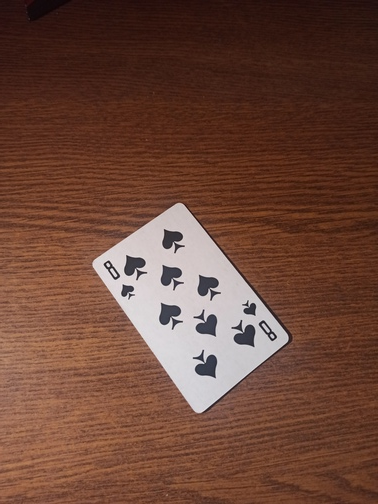eightspades: (89, 200, 292, 416)
